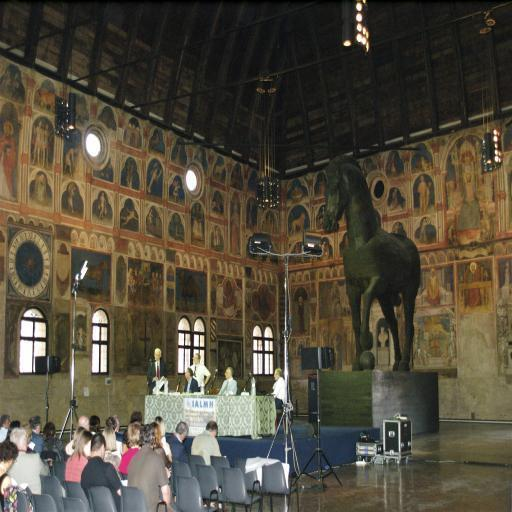horse: (320, 154, 420, 374)
